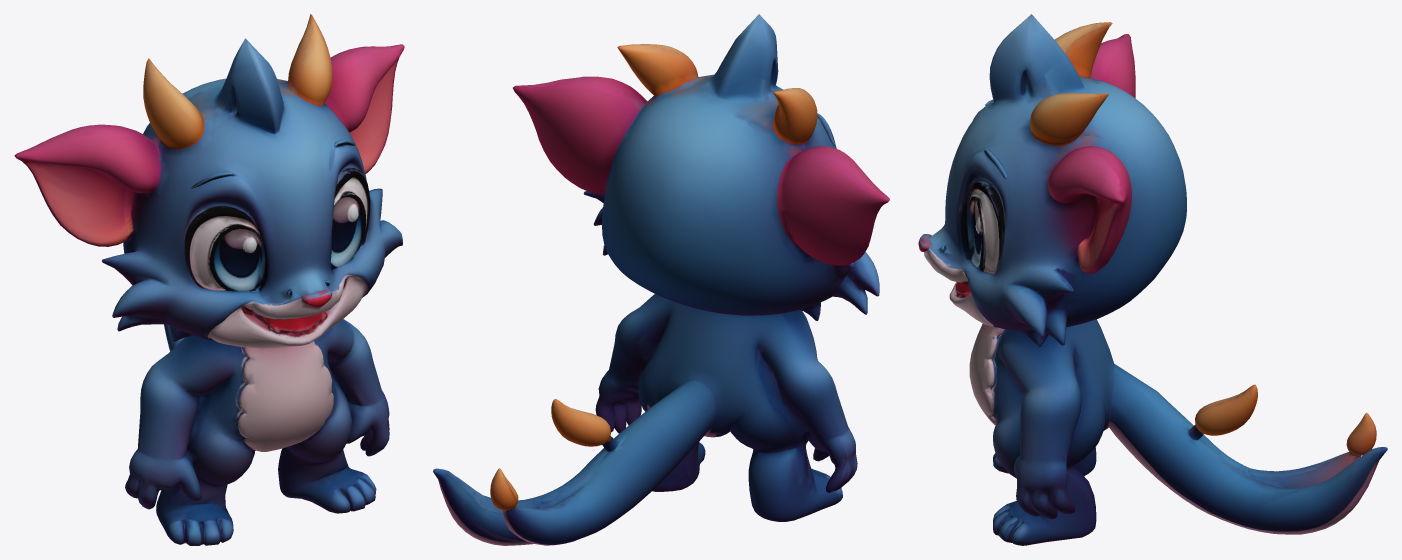
File: monster.fbx
The picture shows the model from 3 angles, left to right: view 1: azimuth 30°, elevation 25°; view 2: azimuth 150°, elevation 25°; view 3: azimuth 270°, elevation 25°; orthographic projection.
Visible parts, largest first — view 1: texture_pbr_v128; view 2: texture_pbr_v128; view 3: texture_pbr_v128.
Part boxes in pixels (x1=…): texture_pbr_v128: x1=14, y1=14, x2=404, y2=545; texture_pbr_v128: x1=433, y1=14, x2=889, y2=545; texture_pbr_v128: x1=918, y1=14, x2=1387, y2=545.
Size of the model in its own units: 80.71 by 96.72 by 86.48.
Materials: 1 (1 with a texture image).
